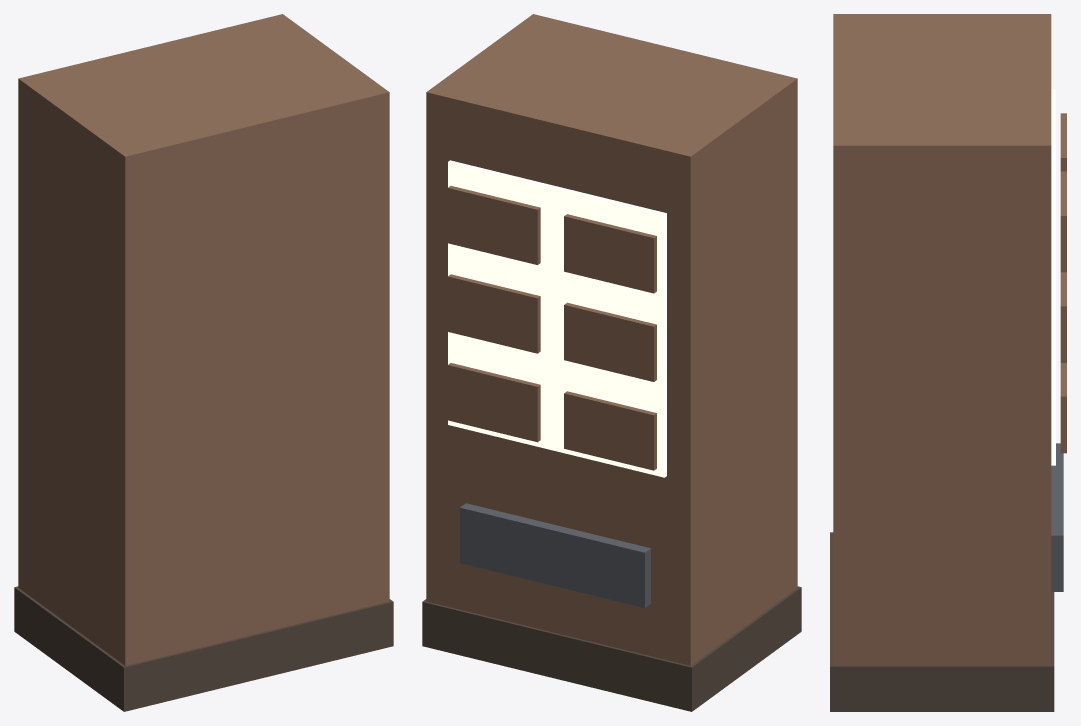
File: prop_jihanki_old.glb
3 views of the same model, side by side, from view 1: azimuth 30°, elevation 25°; view 2: azimuth 150°, elevation 25°; view 3: azimuth 270°, elevation 25° (orthographic). The views are drawn at different scales.
Visible parts, largest first — view 1: jihanki_old; view 2: jihanki_old; view 3: jihanki_old.
Part boxes in pixels (x1,y1,x2,y2): jihanki_old: [14, 14, 393, 711]; jihanki_old: [422, 14, 801, 711]; jihanki_old: [830, 14, 1066, 711].
Bounding box in the file's own units: 1.02 × 2 × 0.76.
